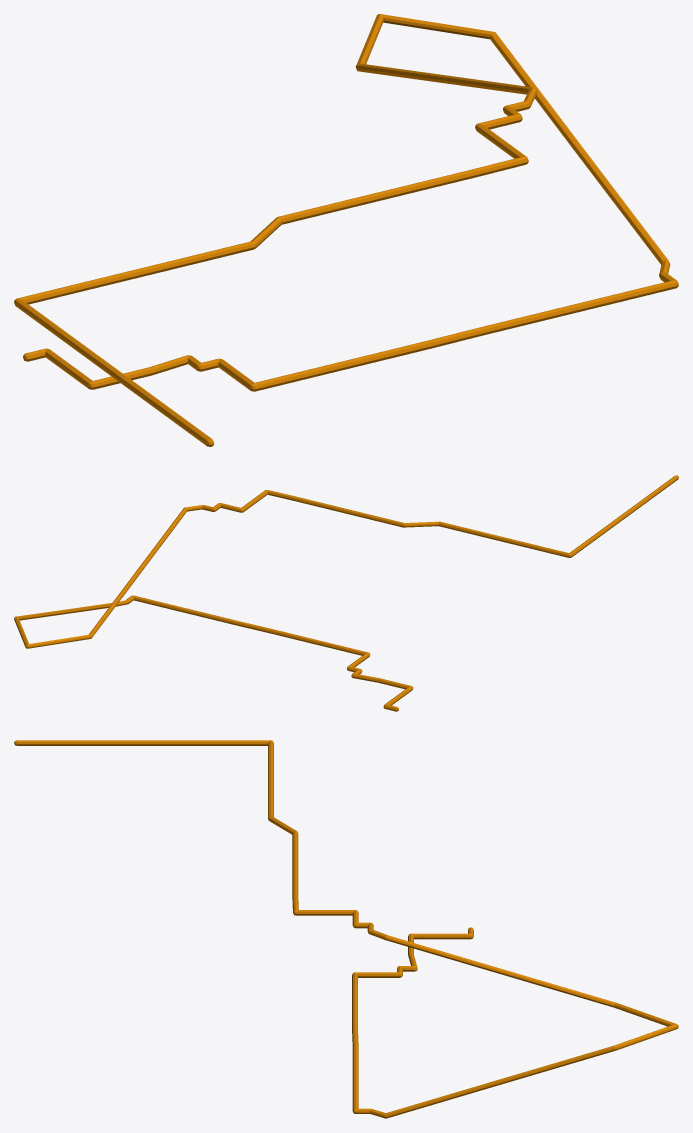
3 views of the same model, one above another, from view 1: azimuth 30°, elevation 25°; view 2: azimuth 150°, elevation 25°; view 3: azimuth 270°, elevation 25° (orthographic). The views are drawn at different scales.
Size of the model in its own units: 1901 by 520 by 2226.
